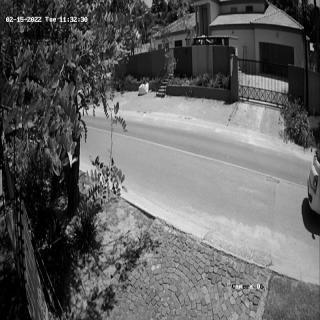car: (306, 148, 320, 214)
